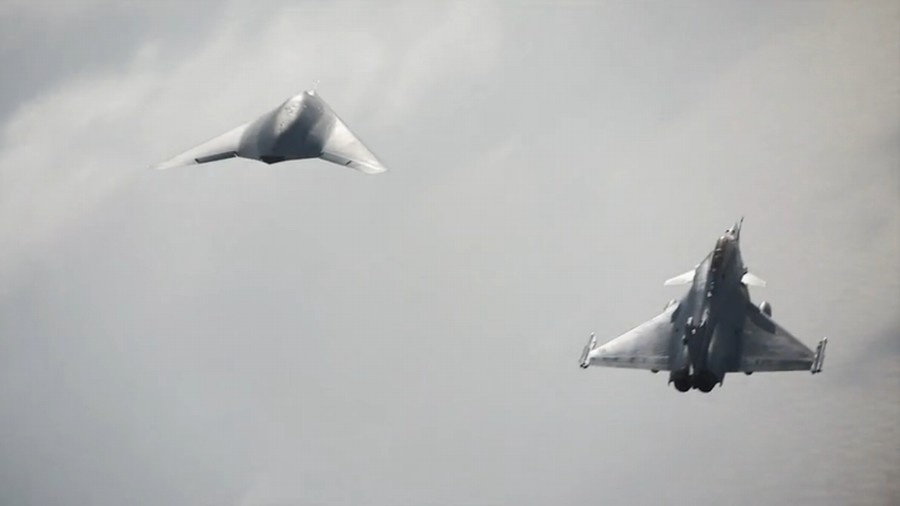airplane: (571, 213, 832, 396), (145, 80, 394, 181)
